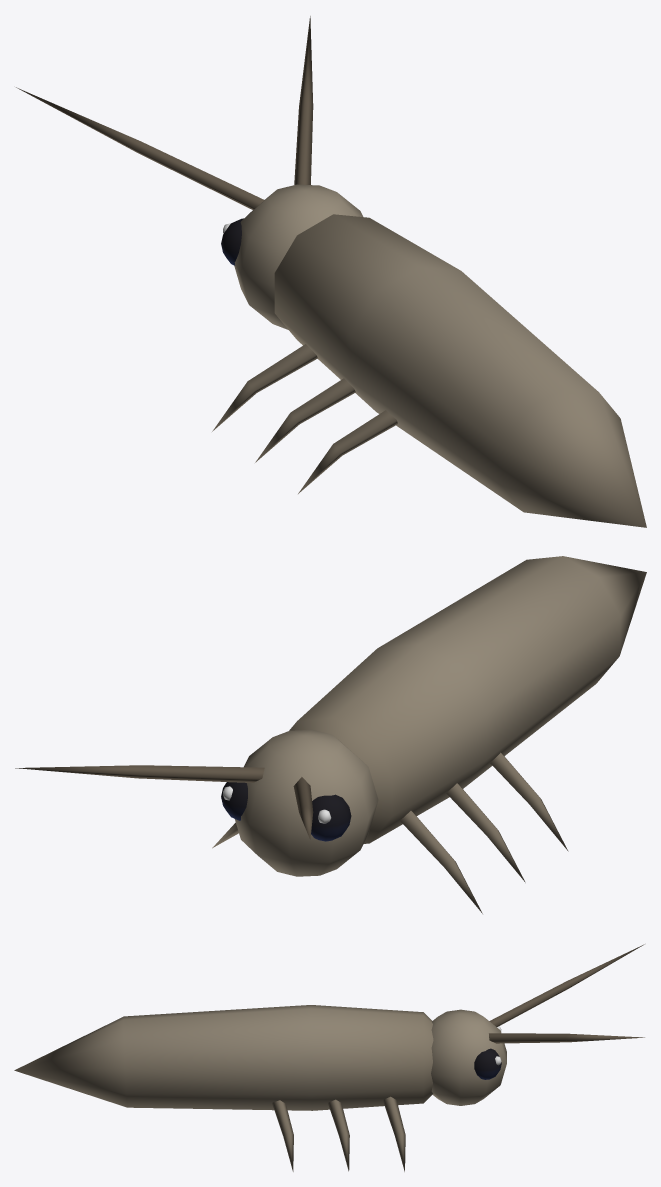
Rendered from Fuyushaku_Body.fbx.
The picture shows the model from 3 angles, top to bottom: view 1: azimuth 30°, elevation 25°; view 2: azimuth 150°, elevation 25°; view 3: azimuth 270°, elevation 25°; orthographic projection. The views are drawn at different scales.
Visible parts, largest first — view 1: Fuyushaku_Body; view 2: Fuyushaku_Body; view 3: Fuyushaku_Body.
Part boxes in pixels (<box>): Fuyushaku_Body: <box>16,16,646,527</box>; Fuyushaku_Body: <box>15,556,646,913</box>; Fuyushaku_Body: <box>14,944,644,1171</box>.
Size of the model in its own units: 0.24 by 0.165 by 0.68.
